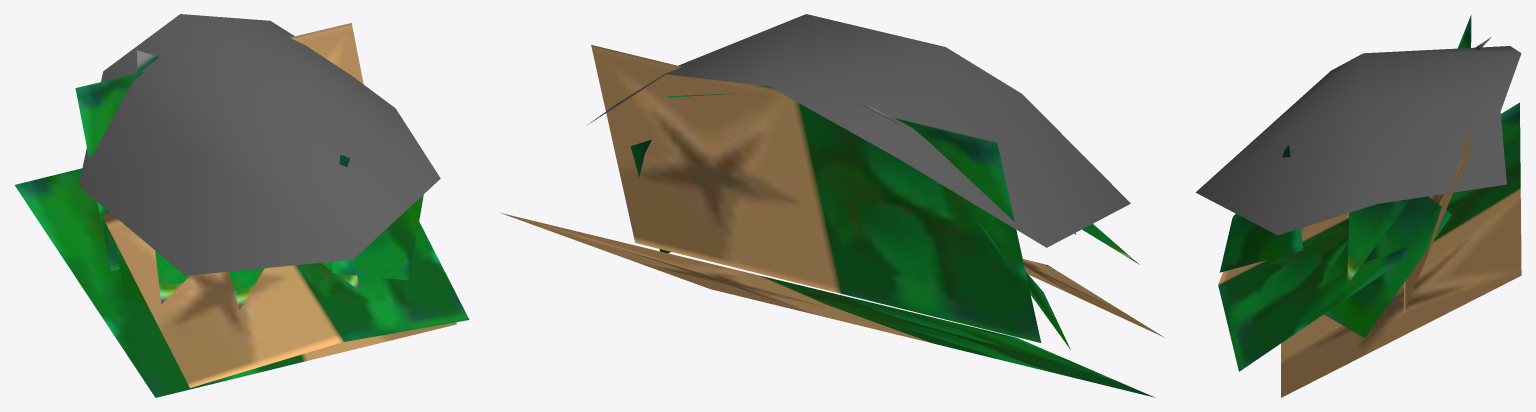
File: fg_bushC_2_s.dae
The picture shows the model from 3 angles, left to right: view 1: azimuth 30°, elevation 25°; view 2: azimuth 150°, elevation 25°; view 3: azimuth 270°, elevation 25°; orthographic projection. The views are drawn at different scales.
Visible parts, largest first — view 1: fg_bushC_2_s; view 2: fg_bushC_2_s; view 3: fg_bushC_2_s.
Part boxes in pixels (<box>): fg_bushC_2_s: <box>14,14,469,397</box>; fg_bushC_2_s: <box>501,14,1164,397</box>; fg_bushC_2_s: <box>1195,15,1521,397</box>.
Size of the model in its own units: 47.83 by 34.27 by 38.04.
1 material, 1 textured.
